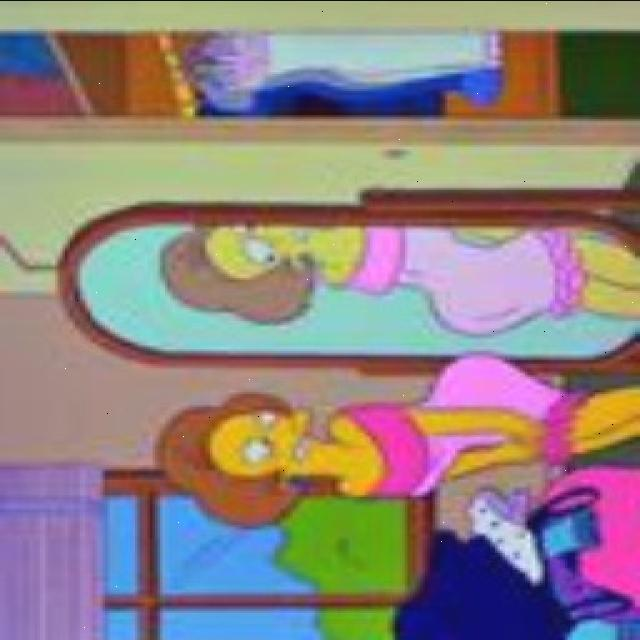Edna Krappel: (159, 389, 341, 532)
